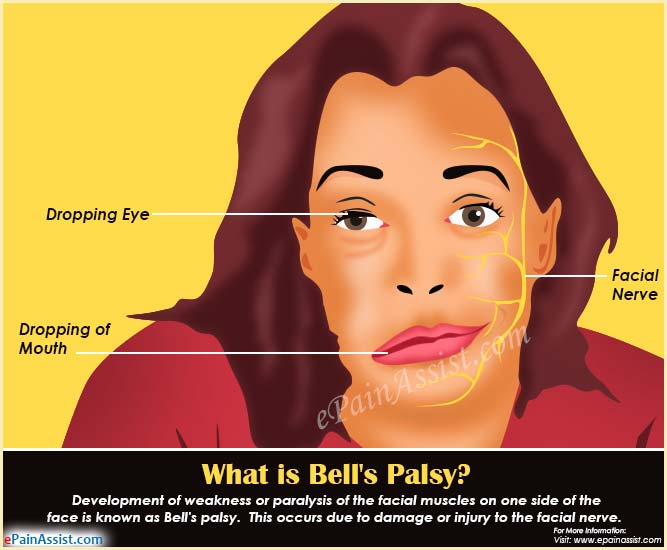stroke: (310, 113, 530, 411)
